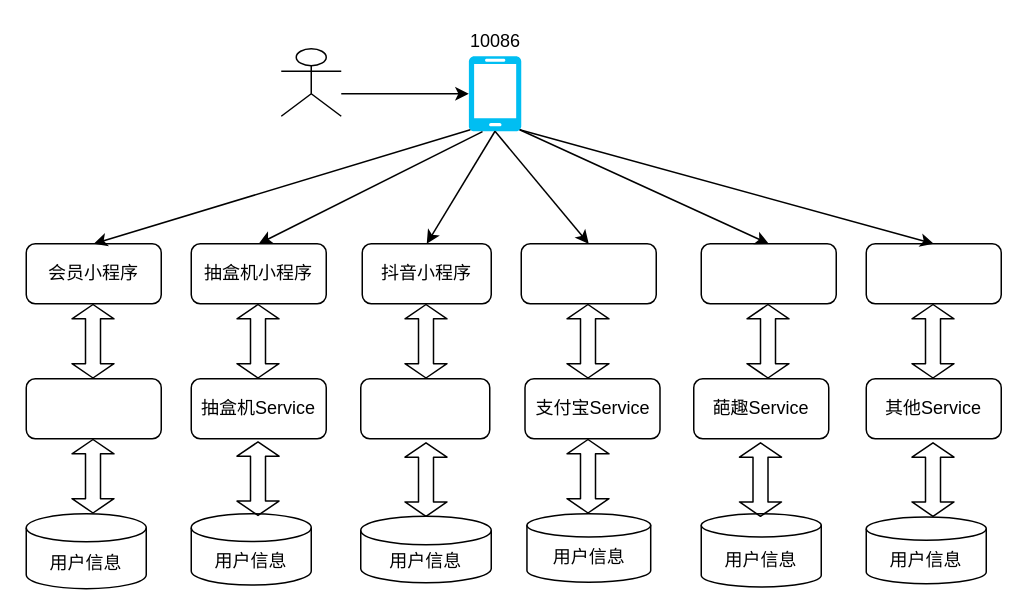
Some shapes in this 1028 by 615 pixel diagram are drawn without their labels. The centre of each missing label's shape, as x and y in pixels:
"会员Service" goes at [93,408].
"其他客户端" goes at [933,273].
"抖音Service" goes at [424,408].
"支付宝小程序" goes at [588,273].
"用户" goes at [310,81].
"葩趣APP" goes at [768,273].
